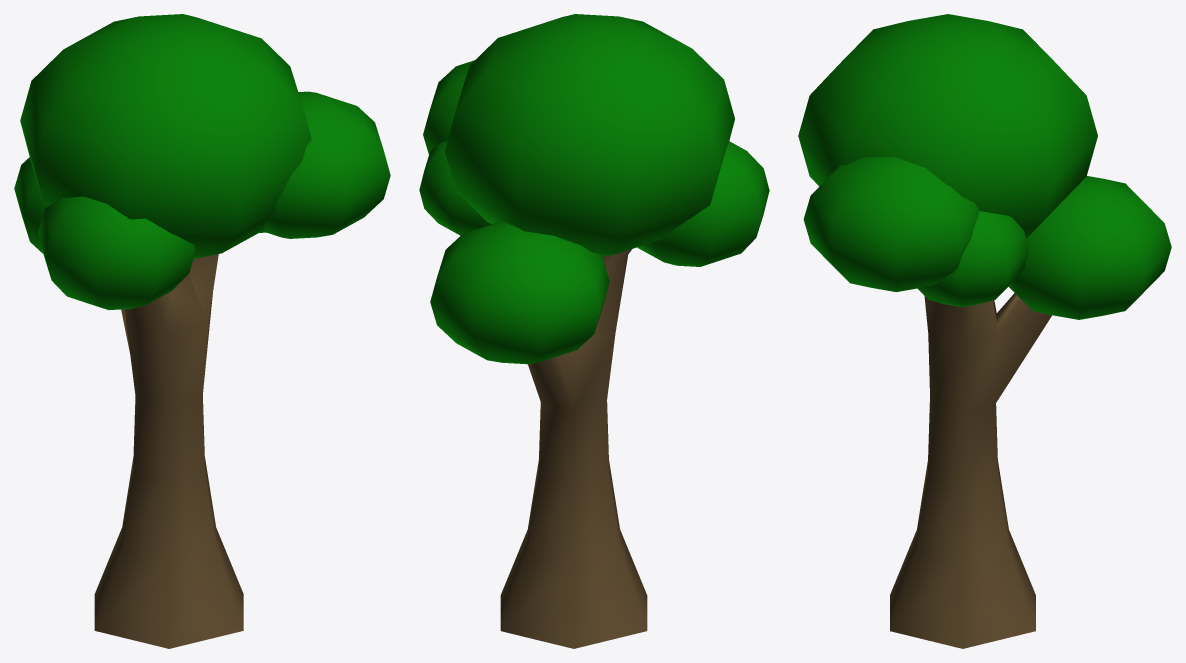
The model's file is Tree_Summer.fbx.
3 renders of one model, left to right at view 1: azimuth 30°, elevation 25°; view 2: azimuth 150°, elevation 25°; view 3: azimuth 270°, elevation 25°, orthographic. The views are drawn at different scales.
Visible parts, largest first — view 1: pSphere3, polySurface1, pSphere1, pSphere2, pSphere5; view 2: pSphere3, polySurface1, pSphere5, pSphere1, pSphere4, pSphere2; view 3: pSphere3, polySurface1, pSphere2, pSphere5, pSphere4.
Part boxes in pixels (<box>): pSphere3: <box>20,14,311,258</box>; polySurface1: <box>94,254,243,648</box>; pSphere1: <box>38,196,195,309</box>; pSphere2: <box>262,91,390,238</box>; pSphere5: <box>14,157,45,253</box>; pSphere3: <box>445,14,734,256</box>; polySurface1: <box>500,249,647,648</box>; pSphere5: <box>430,221,609,364</box>; pSphere1: <box>637,141,769,266</box>; pSphere4: <box>419,141,491,235</box>; pSphere2: <box>423,60,474,154</box>; pSphere3: <box>798,14,1097,238</box>; polySurface1: <box>890,293,1051,648</box>; pSphere2: <box>803,157,979,292</box>; pSphere5: <box>1008,176,1171,319</box>; pSphere4: <box>917,211,1028,306</box>.
Bounding box in the file's own units: 119 × 200 × 117.
